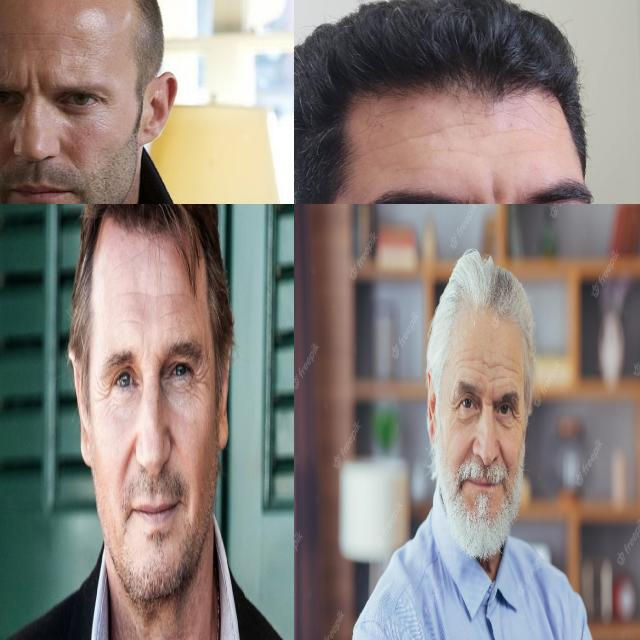crows_feet: (190, 359, 203, 394), (96, 376, 110, 405), (447, 398, 460, 419), (512, 407, 524, 429)
forehead: (405, 118, 471, 146), (483, 118, 523, 138), (8, 27, 64, 41), (126, 284, 161, 303), (51, 46, 87, 60), (165, 284, 191, 303), (472, 355, 490, 381), (455, 351, 470, 376), (119, 314, 142, 330), (506, 356, 519, 384), (492, 358, 504, 386), (162, 306, 178, 319)
frown_line: (22, 69, 46, 103), (484, 185, 508, 204), (154, 348, 164, 364)
gummy_smile: (123, 432, 133, 477), (462, 440, 472, 465), (498, 445, 507, 471)
